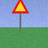sign: (12, 0, 29, 35)
